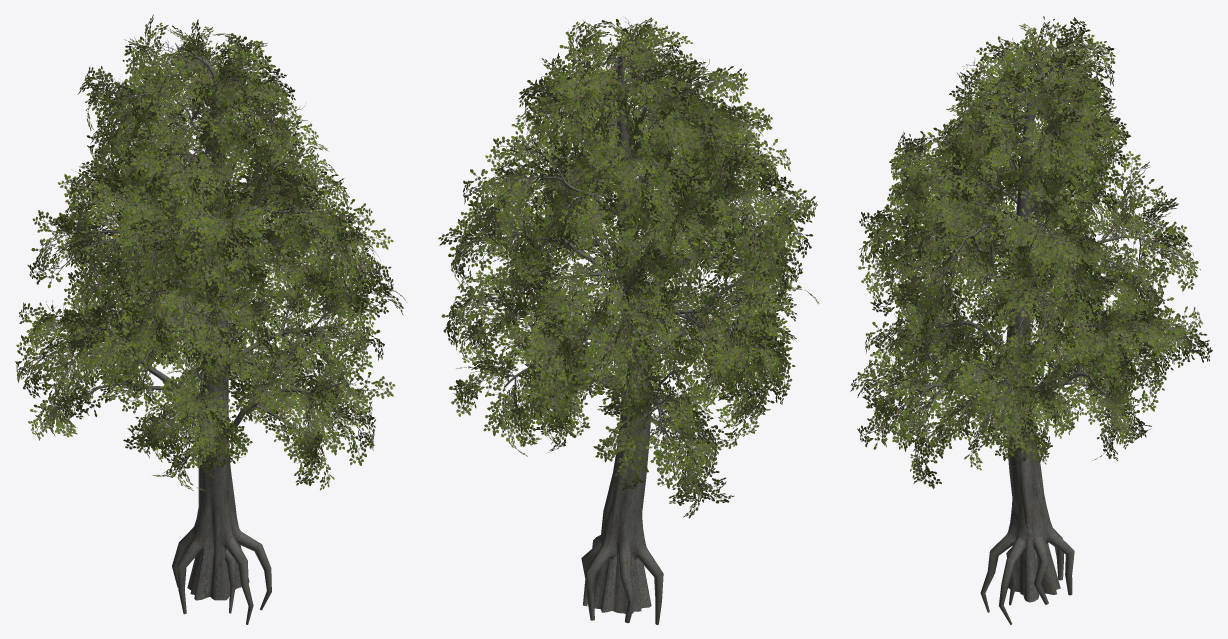
The model's file is linden_tree.glb.
3 views of the same model, side by side, from view 1: azimuth 30°, elevation 25°; view 2: azimuth 150°, elevation 25°; view 3: azimuth 270°, elevation 25° (orthographic). The views are drawn at different scales.
Visible parts, largest first — view 1: Linden_LOD0; view 2: Linden_LOD0; view 3: Linden_LOD0.
Boxes of the visible parts, x1,y1,x2,y2 form: Linden_LOD0: (15,14,406,624); Linden_LOD0: (438,17,819,624); Linden_LOD0: (850,16,1212,624).
Bounding box in the file's own units: 10.12 × 18.04 × 10.4.
2 materials, 2 textured.
